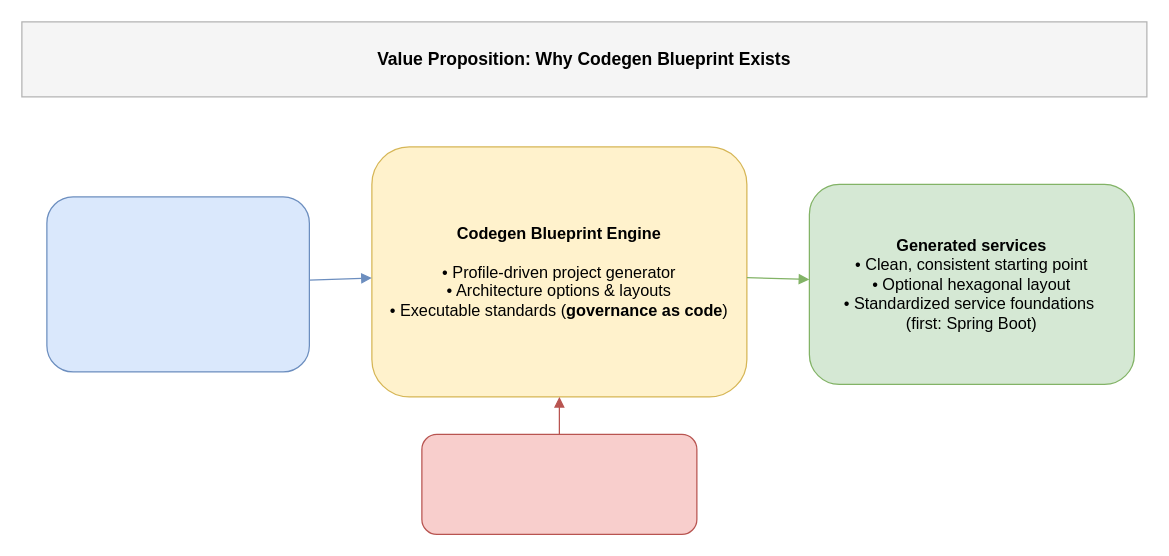
Image size: 1169x556. Some labels were removed from this diagram. Each missing label, with the centre of its shape:
"Profiles & Templates (YAML + FreeMarker)" belongs at point (559, 483).
"Who Benefits • Developers • Platform Engineering • Lead Architects" belongs at point (177, 284).
